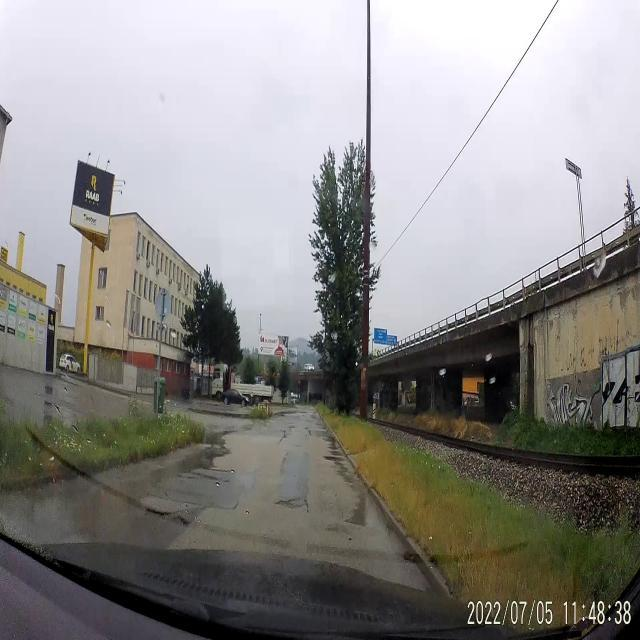Pothole: (145, 498, 194, 536), (178, 461, 221, 489), (274, 494, 310, 514), (320, 452, 346, 466), (304, 427, 314, 440), (288, 425, 296, 433)
